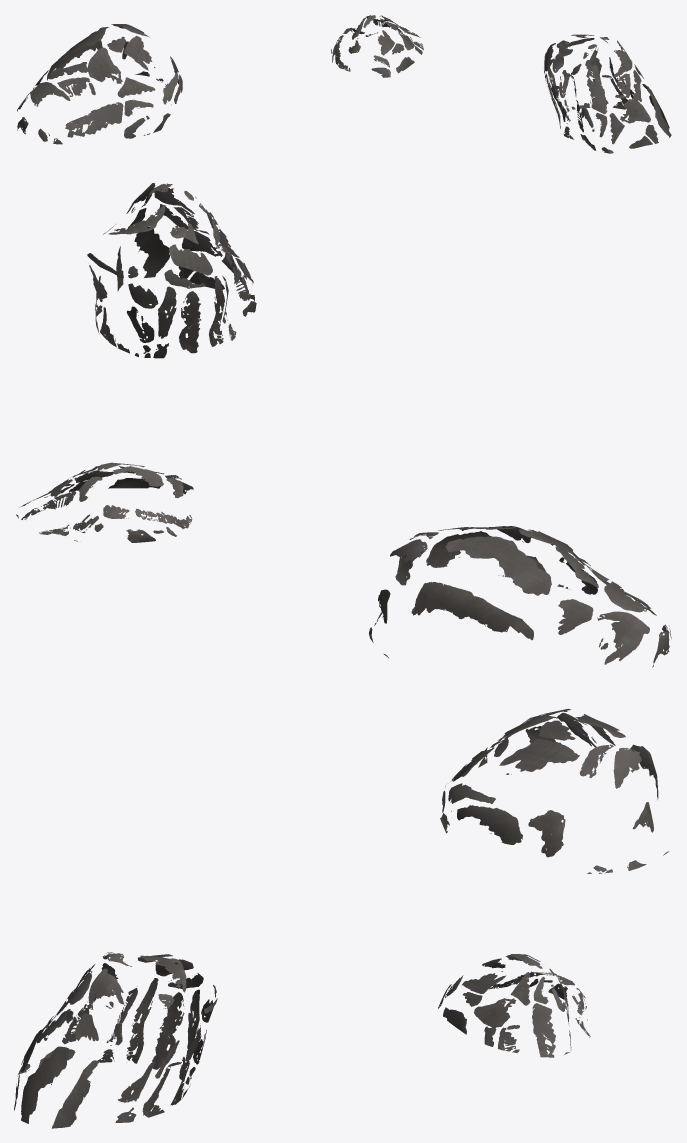
File: SM_ENV_LKNVLD_RockMiddle_C.FBX
The picture shows the model from 3 angles, top to bottom: view 1: azimuth 30°, elevation 25°; view 2: azimuth 150°, elevation 25°; view 3: azimuth 270°, elevation 25°; orthographic projection. The views are drawn at different scales.
Parts seen in each view (by area): view 1: SM_ENV_LKNVLD_RockMiddle_C; view 2: SM_ENV_LKNVLD_RockMiddle_C; view 3: SM_ENV_LKNVLD_RockMiddle_C.
Part boxes in pixels (left/top/right/bottom): SM_ENV_LKNVLD_RockMiddle_C: left=17, top=15, right=671, bottom=153; SM_ENV_LKNVLD_RockMiddle_C: left=16, top=183, right=671, bottom=667; SM_ENV_LKNVLD_RockMiddle_C: left=14, top=708, right=669, bottom=1128.
Size of the model in its own units: 1150 by 197 by 849.
